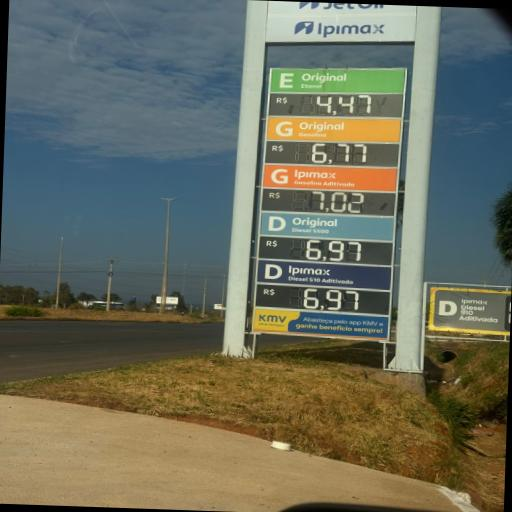ETANOL: (273, 68, 355, 92)
GASOLINA AD: (268, 165, 365, 188)
GASOLINA C: (272, 116, 357, 141)
S10: (264, 261, 361, 285)
S500: (266, 212, 347, 237)
placa: (249, 66, 406, 319)
preco: (295, 237, 368, 265), (305, 94, 379, 120), (302, 186, 370, 214), (306, 139, 374, 165), (298, 286, 364, 312)
